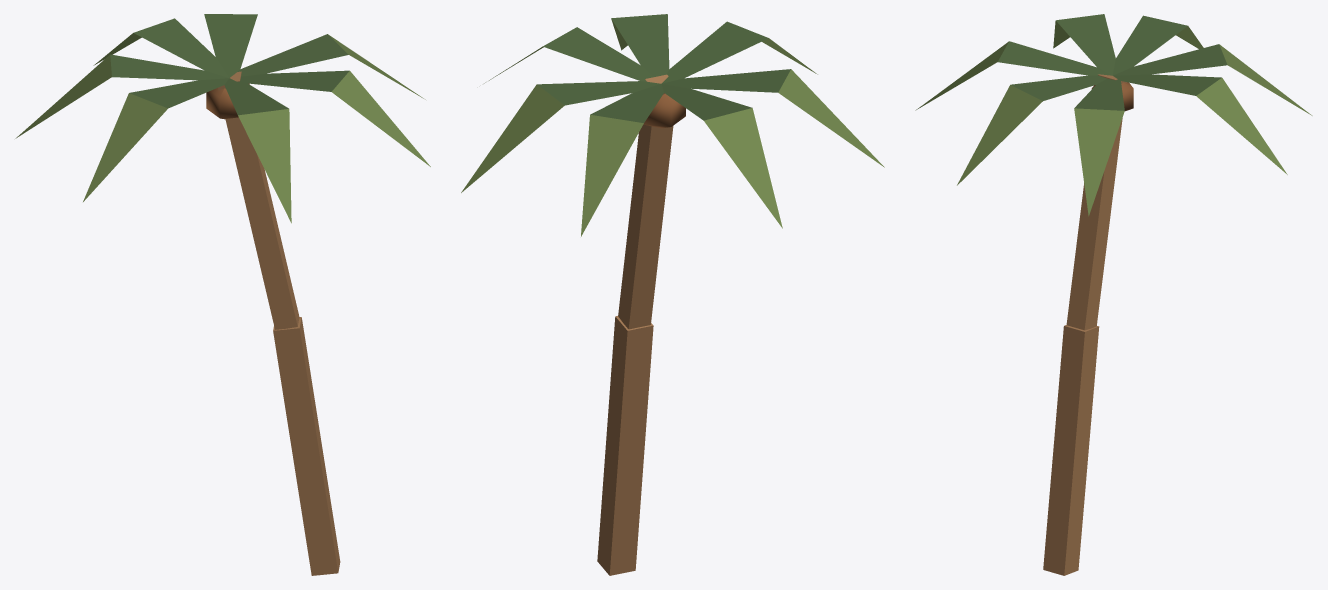
The model's file is palm.fbx.
The picture shows the model from 3 angles, left to right: view 1: azimuth 30°, elevation 25°; view 2: azimuth 150°, elevation 25°; view 3: azimuth 270°, elevation 25°; orthographic projection. The views are drawn at different scales.
Visible parts, largest first — view 1: palm; view 2: palm; view 3: palm.
Part boxes in pixels (x1,y1,x2,y2): palm: (15,14,430,575); palm: (461,14,884,575); palm: (915,14,1312,575).
Size of the model in its own units: 0.5451 by 0.7215 by 0.5479.
